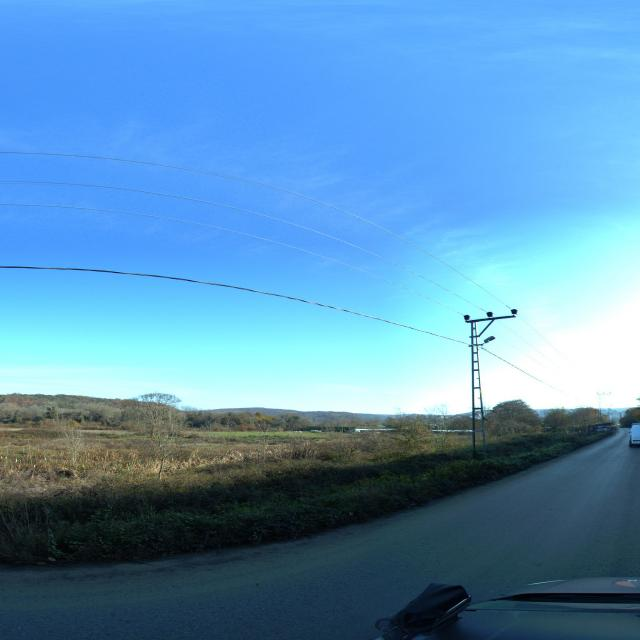Utility Pole Information Plate: (480, 390, 482, 395)
